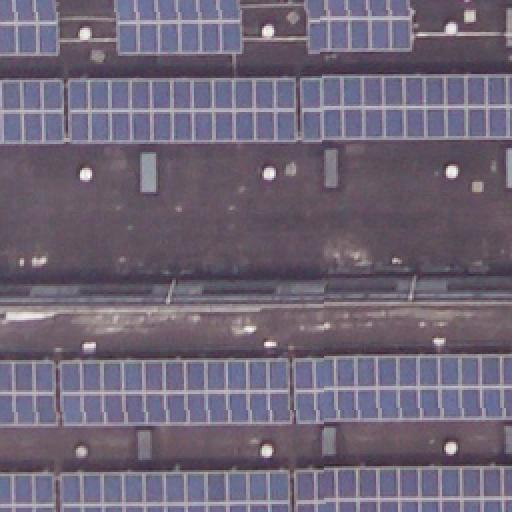solar-panel: (59, 352, 293, 424), (294, 350, 512, 422), (68, 78, 296, 146), (300, 75, 512, 141), (296, 465, 512, 511), (61, 472, 291, 512), (117, 0, 243, 56), (308, 0, 412, 52), (0, 79, 64, 145), (0, 357, 58, 427), (0, 0, 56, 56), (1, 472, 55, 512)
